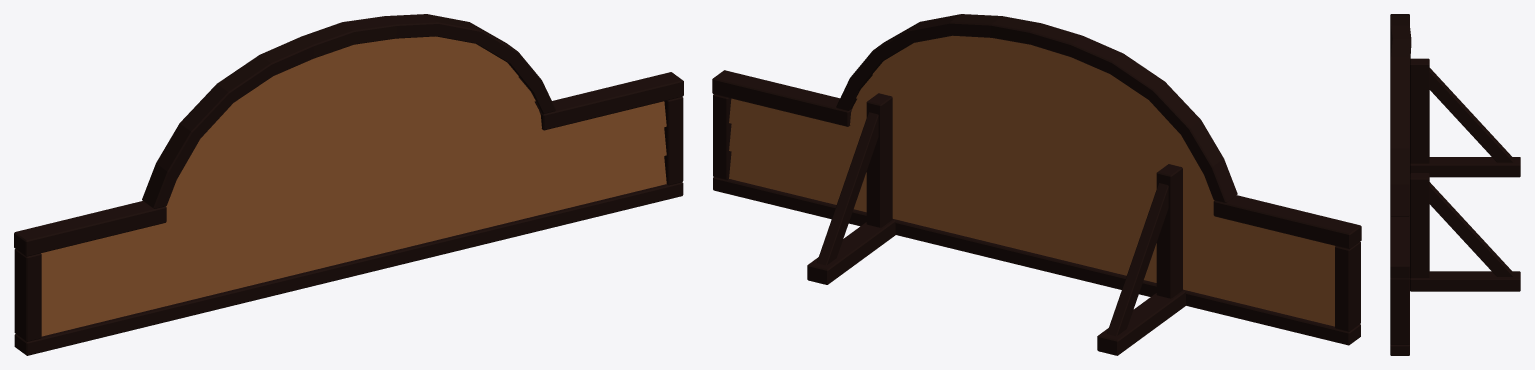
File: ww_sign_b.glb
3 views of the same model, side by side, from view 1: azimuth 30°, elevation 25°; view 2: azimuth 150°, elevation 25°; view 3: azimuth 270°, elevation 25° (orthographic). The views are drawn at different scales.
Visible parts, largest first — view 1: Sign_B; view 2: Sign_B; view 3: Sign_B.
Part boxes in pixels (left/top/right/bottom): Sign_B: left=14, top=14, right=683, bottom=355; Sign_B: left=712, top=14, right=1361, bottom=355; Sign_B: left=1390, top=14, right=1520, bottom=355.
Size of the model in its own units: 10.56 by 3.75 by 2.32.
